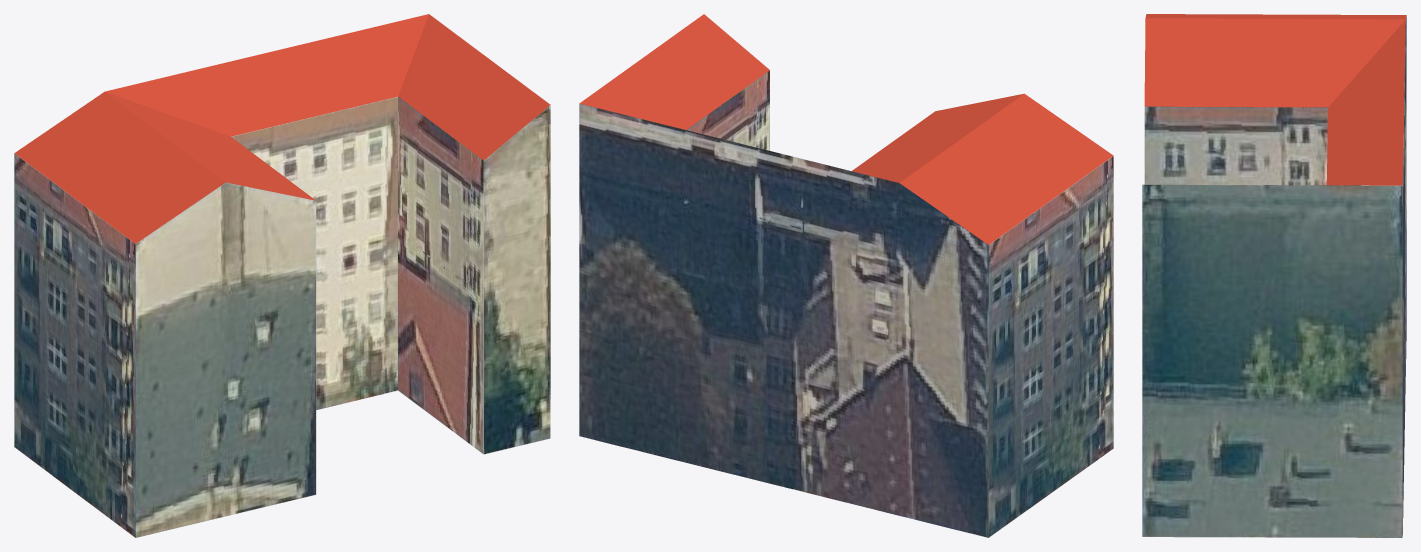
3 views of the same model, side by side, from view 1: azimuth 30°, elevation 25°; view 2: azimuth 150°, elevation 25°; view 3: azimuth 270°, elevation 25° (orthographic). The views are drawn at different scales.
Bounding box in the file's own units: 29.42 × 22.62 × 15.39.
3 materials, 1 textured.
